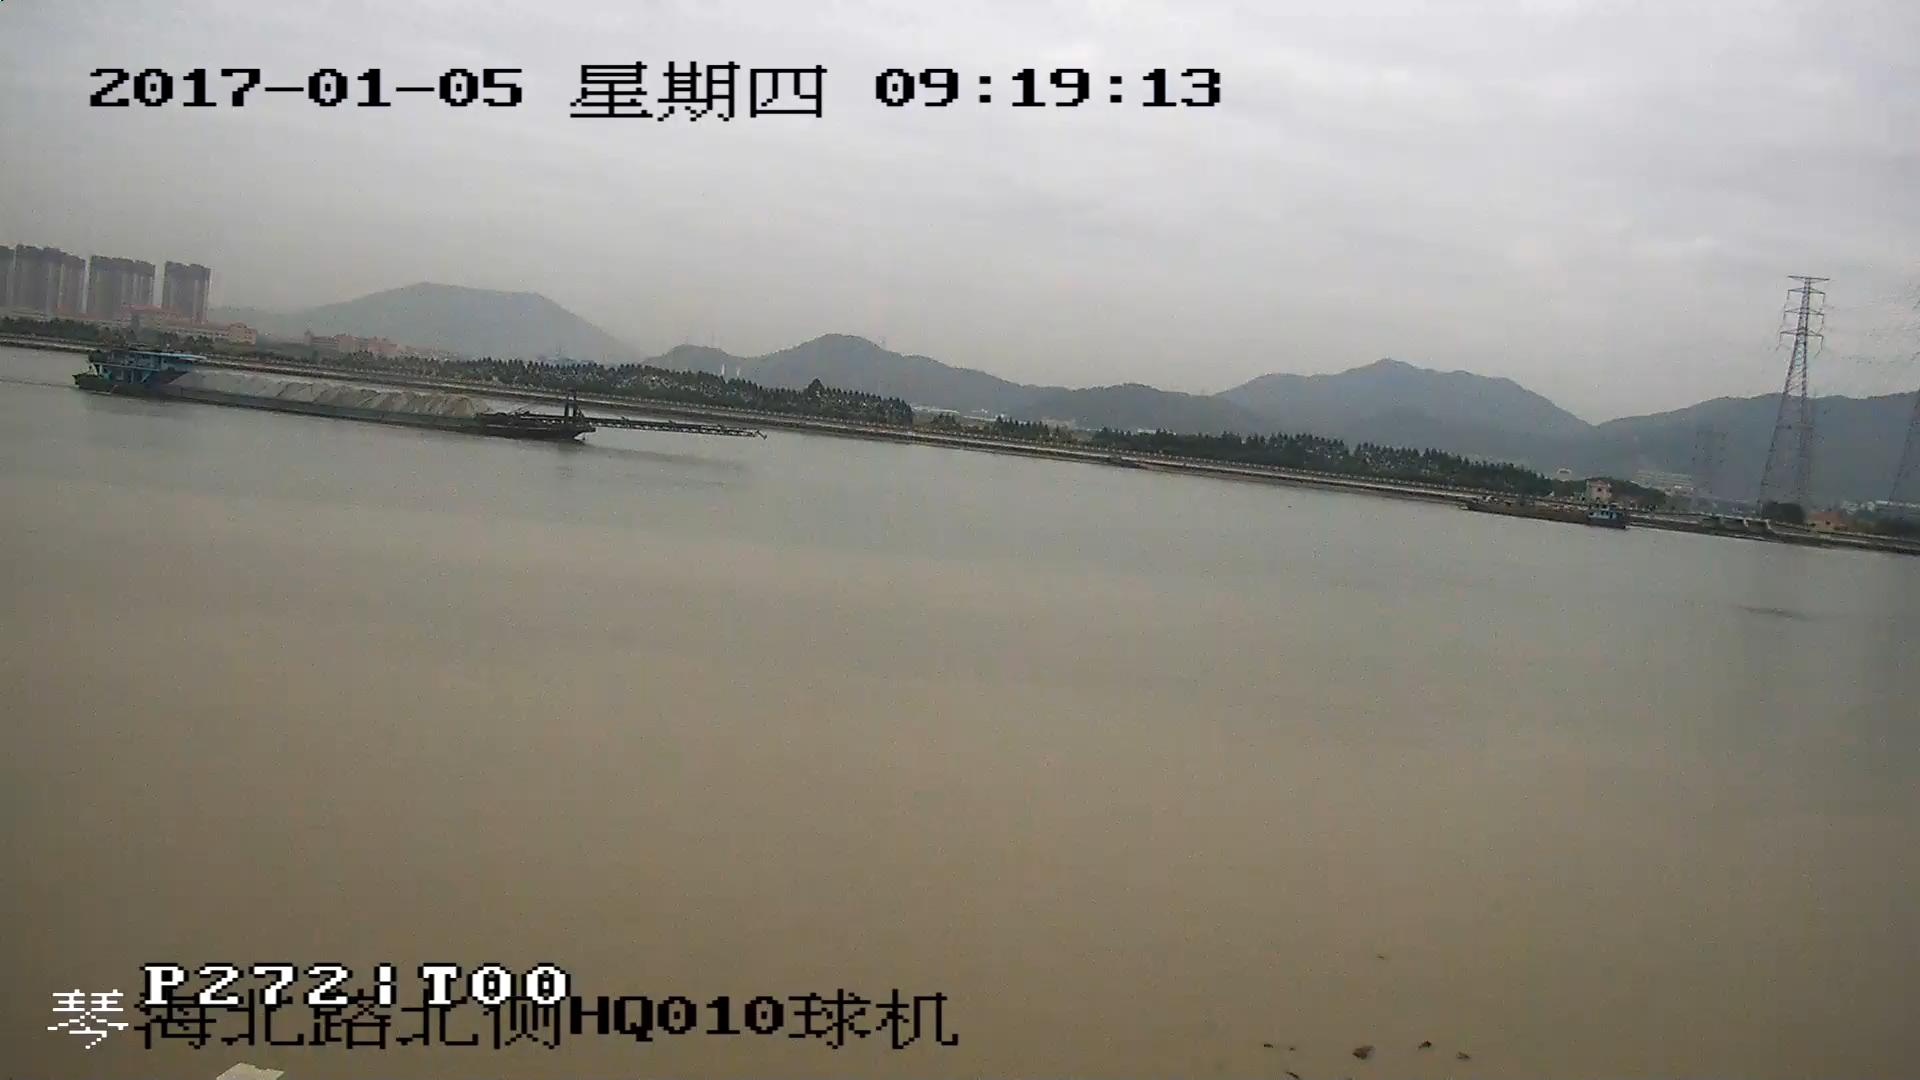ore carrier: (75, 355, 750, 446)
